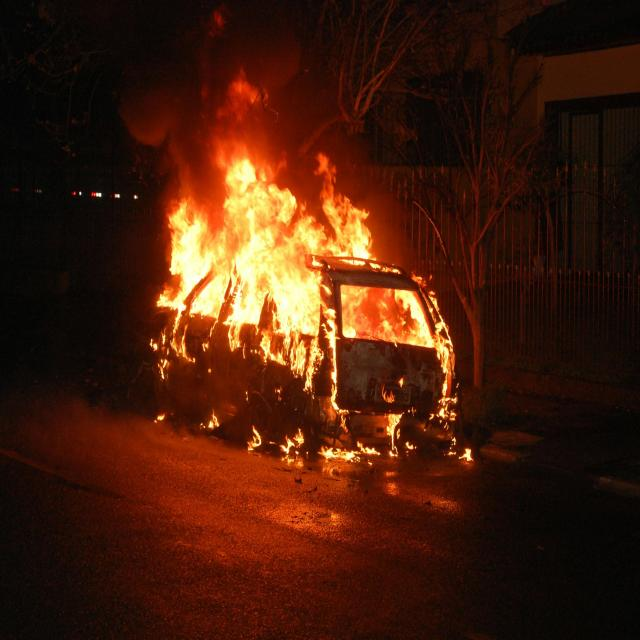fire: (141, 147, 475, 471)
